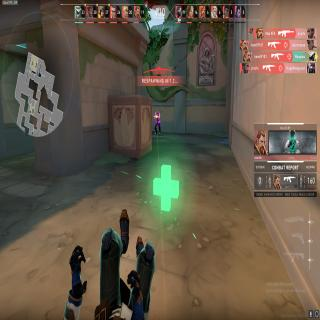ENEMY-BODY: (154, 108, 161, 134)
ENEMY-HEAD: (157, 109, 158, 114)
